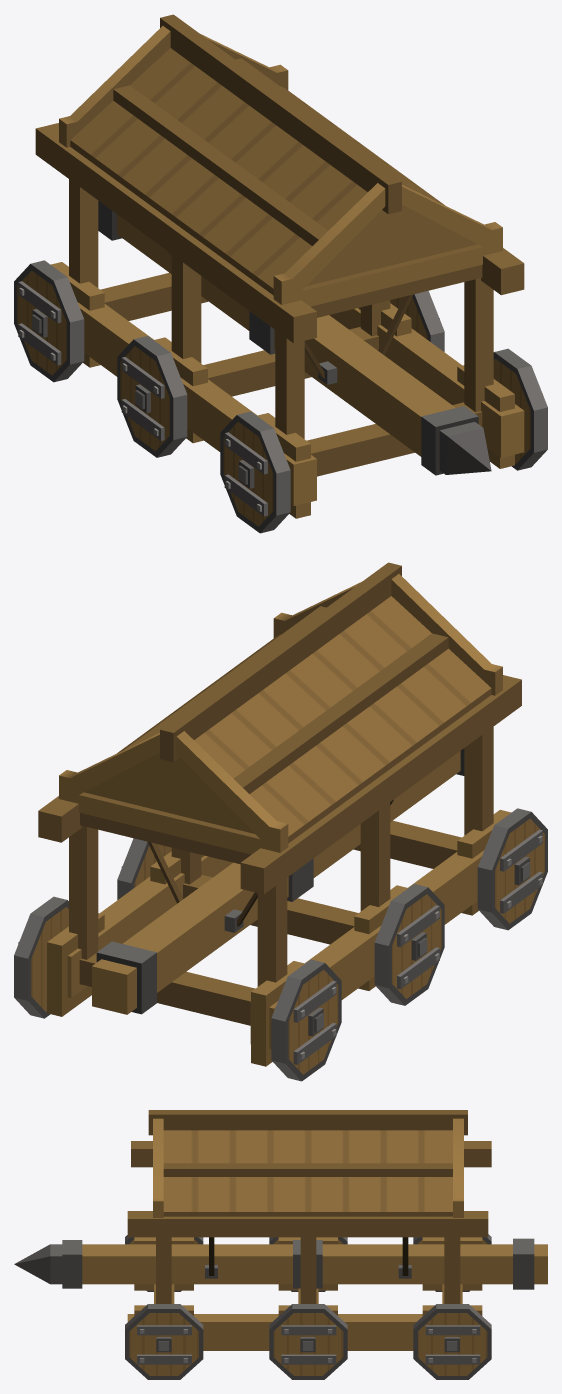
The model's file is BatteringRam.gltf.
3 views of the same model, one above another, from view 1: azimuth 30°, elevation 25°; view 2: azimuth 150°, elevation 25°; view 3: azimuth 270°, elevation 25° (orthographic). The views are drawn at different scales.
Parts seen in each view (by area): view 1: SF_Veh_BatteringRam_01, SF_Veh_BatteringRam_Pole, SF_Veh_BatteringRam_WheelFR, SF_Veh_BatteringRam_WheelBR, SF_Veh_BatteringRam_WheelMR, SF_Veh_BatteringRam_WheelFL, SF_Veh_BatteringRam_WheelML, SF_Veh_BatteringRam_Ropes; view 2: SF_Veh_BatteringRam_01, SF_Veh_BatteringRam_Pole, SF_Veh_BatteringRam_WheelBR, SF_Veh_BatteringRam_WheelFR, SF_Veh_BatteringRam_WheelMR, SF_Veh_BatteringRam_WheelBL, SF_Veh_BatteringRam_WheelML, SF_Veh_BatteringRam_Ropes; view 3: SF_Veh_BatteringRam_01, SF_Veh_BatteringRam_Pole, SF_Veh_BatteringRam_WheelBL, SF_Veh_BatteringRam_WheelML, SF_Veh_BatteringRam_WheelFL, SF_Veh_BatteringRam_Ropes.
Part boxes in pixels (box(x1,y1,x2,y2)): SF_Veh_BatteringRam_01: box(35, 14, 524, 518); SF_Veh_BatteringRam_Pole: box(98, 201, 491, 475); SF_Veh_BatteringRam_WheelFR: box(220, 411, 290, 533); SF_Veh_BatteringRam_WheelBR: box(14, 260, 84, 382); SF_Veh_BatteringRam_WheelMR: box(117, 336, 187, 457); SF_Veh_BatteringRam_WheelFL: box(493, 348, 547, 470); SF_Veh_BatteringRam_WheelML: box(390, 291, 444, 351); SF_Veh_BatteringRam_Ropes: box(167, 251, 413, 384); SF_Veh_BatteringRam_01: box(38, 562, 521, 1066); SF_Veh_BatteringRam_Pole: box(92, 748, 464, 1014); SF_Veh_BatteringRam_WheelBR: box(271, 959, 341, 1081); SF_Veh_BatteringRam_WheelFR: box(477, 808, 547, 930); SF_Veh_BatteringRam_WheelMR: box(374, 884, 444, 1005); SF_Veh_BatteringRam_WheelBL: box(14, 896, 68, 1018); SF_Veh_BatteringRam_WheelML: box(117, 838, 171, 899); SF_Veh_BatteringRam_Ropes: box(148, 800, 393, 932); SF_Veh_BatteringRam_01: box(127, 1110, 491, 1350); SF_Veh_BatteringRam_Pole: box(14, 1238, 547, 1289); SF_Veh_BatteringRam_WheelBL: box(413, 1304, 491, 1379); SF_Veh_BatteringRam_WheelML: box(269, 1304, 347, 1379); SF_Veh_BatteringRam_WheelFL: box(125, 1304, 203, 1379); SF_Veh_BatteringRam_Ropes: box(205, 1237, 411, 1278).
Size of the model in its own units: 0.0475 by 0.0505 by 0.1104.
Materials: 1 (1 with a texture image).
